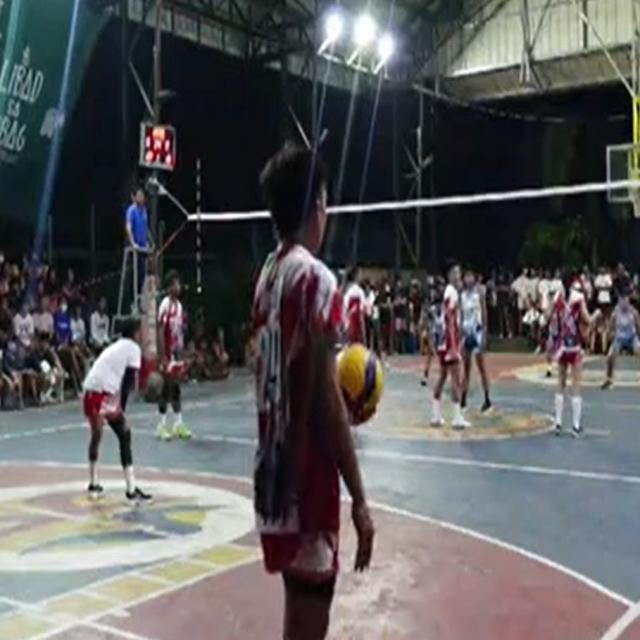volleyball: (335, 344, 383, 423)
